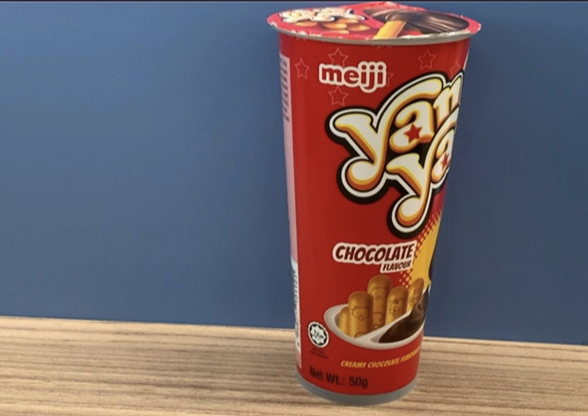cookies_1g-99g: (301, 51, 420, 382)
